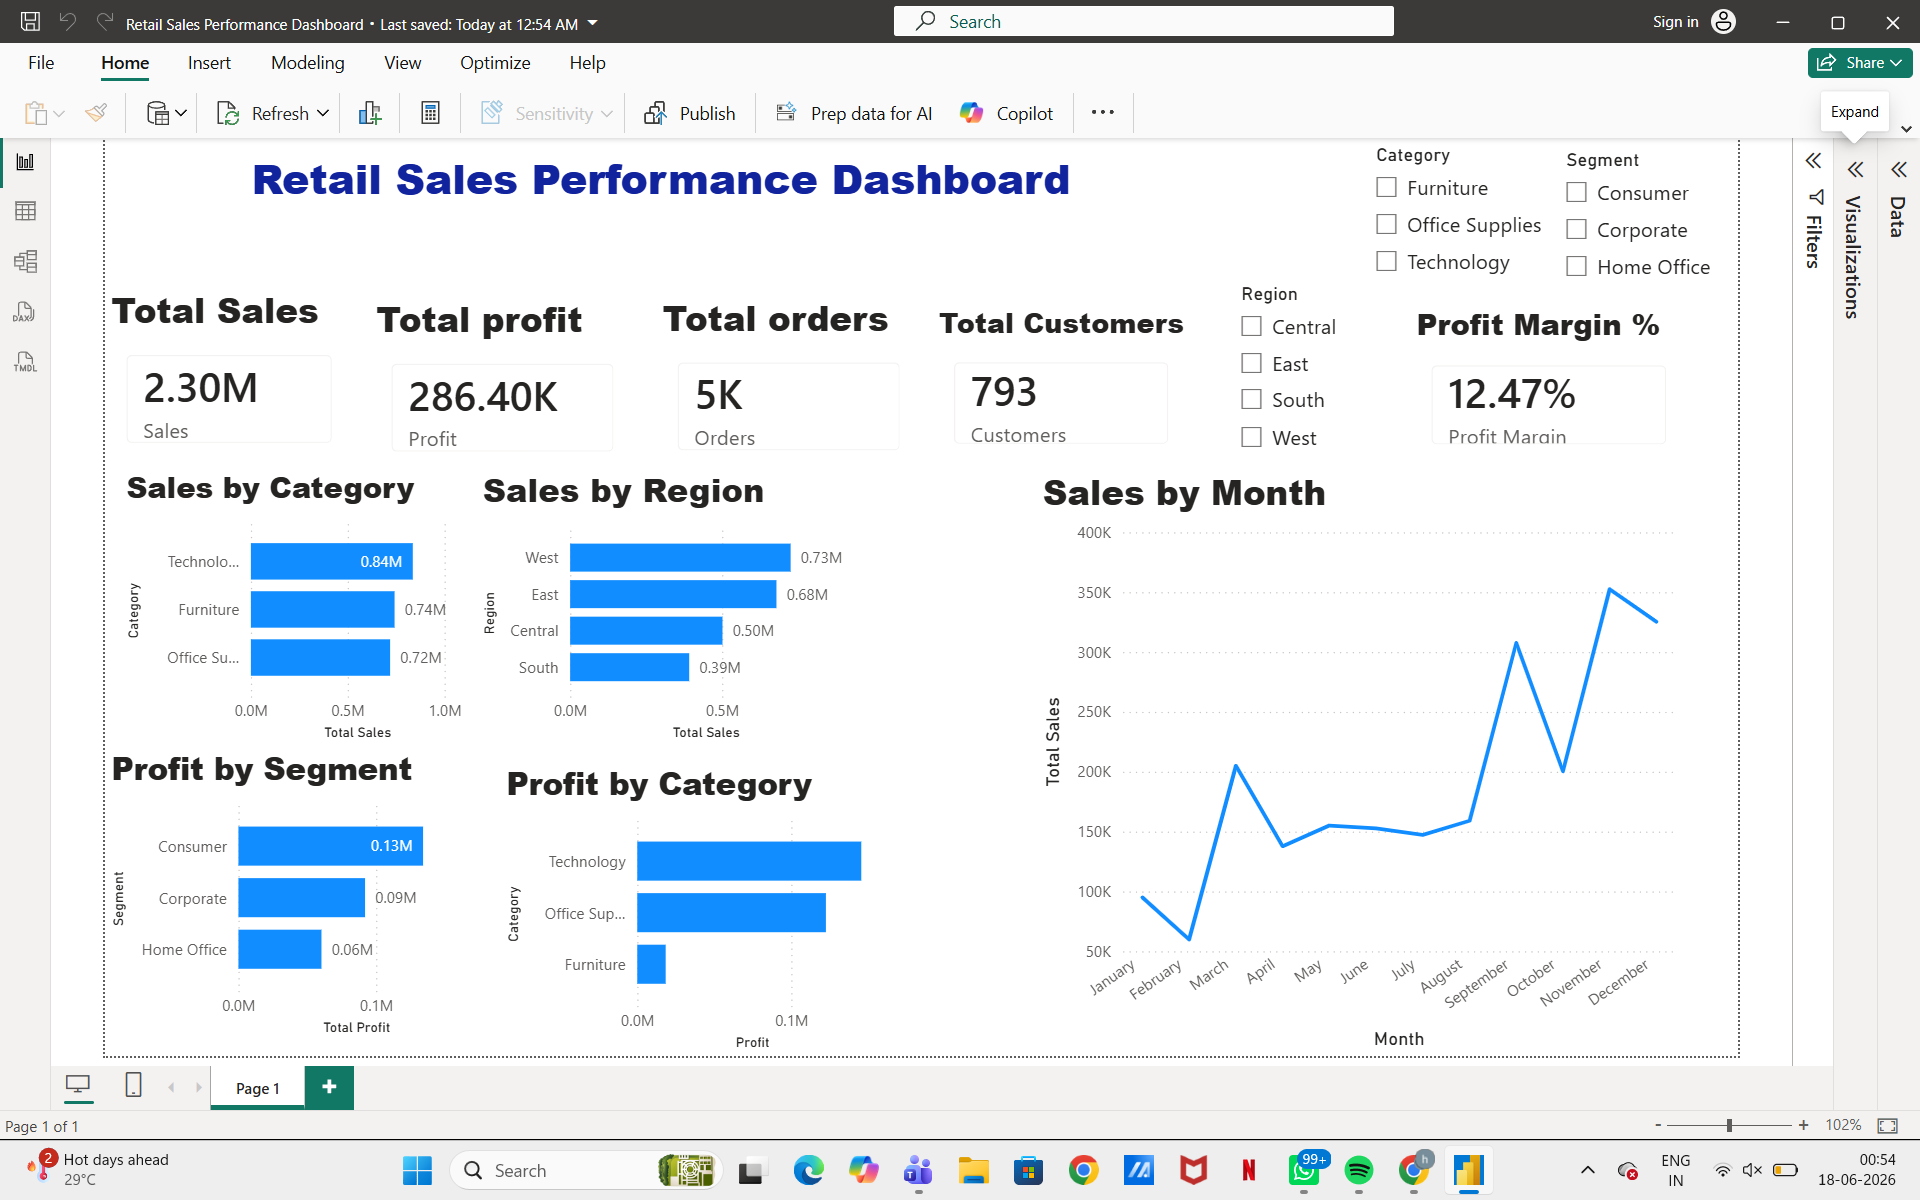

The dashboard page shown, as its layout file describes it:
{"tool":"powerbi","page":{"name":"Page 1","canvas":[1280,720],"ordinal":0},"visuals":[{"type":"cardVisual","title":"Total Sales","fields":{"Data":["Sum(Clean_Sales.Sales)"]},"box":[0,115.5,195.3,141.1],"z":0},{"type":"cardVisual","title":"Total profit","fields":{"Data":["Sum(Clean_Sales.Profit)"]},"box":[208.1,122.6,208.1,141.1],"z":1000},{"type":"cardVisual","title":"Total orders","fields":{"Data":["Clean_Sales.Total Orders"]},"box":[431.9,121.2,208.1,141.1],"z":2000},{"type":"cardVisual","title":"Total Customers","fields":{"Data":["Clean_Sales.total customers"]},"box":[648.6,129.7,202.4,128.3],"z":3000},{"type":"cardVisual","title":"Profit Margin %","fields":{"Data":["Clean_Sales.Profit Margin"]},"box":[1023.4,129.7,218.1,128.3],"z":4000},{"type":"clusteredBarChart","title":" Sales by Category","fields":{"Category":["Clean_Sales.Category"],"Y":["Sum(Clean_Sales.Sales)"]},"box":[11.4,258,289.4,219.5],"z":5000},{"type":"clusteredBarChart","title":"Profit by Category","fields":{"Category":["Clean_Sales.Category"],"Y":["Sum(Clean_Sales.Profit)"]},"box":[309.3,488.9,307.9,230.9],"z":6000},{"type":"clusteredBarChart","title":"Sales by Region","fields":{"Category":["Clean_Sales.Region"],"Y":["Sum(Clean_Sales.Sales)"]},"box":[290.8,258,306.5,219.5],"z":7000},{"type":"lineChart","title":" Sales by Month","fields":{"Y":["Sum(Clean_Sales.Sales)"],"Category":["Clean_Sales.Order_Date.Variation.Date Hierarchy.Month"]},"box":[729.8,258,506,461.8],"z":8000},{"type":"clusteredBarChart","title":"Profit by Segment","fields":{"Category":["Clean_Sales.Segment"],"Y":["Sum(Clean_Sales.Profit)"]},"box":[0,477.5,309.3,230.9],"z":9000},{"type":"slicer","fields":{"Values":["Clean_Sales.Region"]},"box":[878,108.3,106.9,149.7],"z":10000},{"type":"slicer","fields":{"Values":["Clean_Sales.Category"]},"box":[983.5,0,149.7,116.9],"z":11000},{"type":"slicer","fields":{"Values":["Clean_Sales.Segment"]},"box":[1133.2,4.3,146.8,116.9],"z":12000},{"type":"textbox","box":[109.8,4.3,822.4,79.8],"z":13000}]}

Visuals, with their boxes on the page's 1280x720 design canvas (x1, y1, x2, y2). These are canvas units, not pixel positions in the 1920x1200 screenshot, which may show the page scaled, cropped or inside an application window:
"Total Sales" cardVisual: (0,116,195,257)
"Total profit" cardVisual: (208,123,416,264)
"Total orders" cardVisual: (432,121,640,262)
"Total Customers" cardVisual: (649,130,851,258)
"Profit Margin %" cardVisual: (1023,130,1242,258)
" Sales by Category" clusteredBarChart: (11,258,301,478)
"Profit by Category" clusteredBarChart: (309,489,617,720)
"Sales by Region" clusteredBarChart: (291,258,597,478)
" Sales by Month" lineChart: (730,258,1236,720)
"Profit by Segment" clusteredBarChart: (0,478,309,708)
slicer - Clean_Sales.Region: (878,108,985,258)
slicer - Clean_Sales.Category: (984,0,1133,117)
slicer - Clean_Sales.Segment: (1133,4,1280,121)
textbox: (110,4,932,84)
